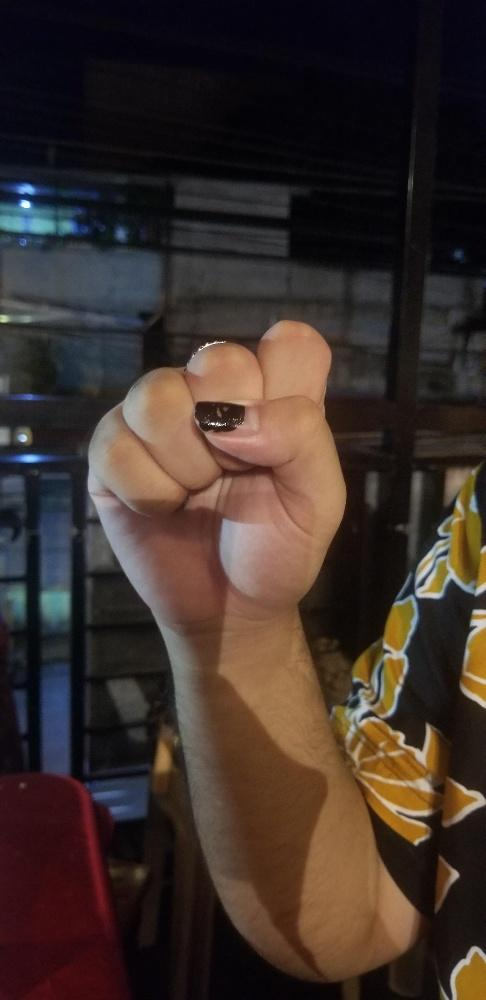s: (79, 319, 346, 609)
